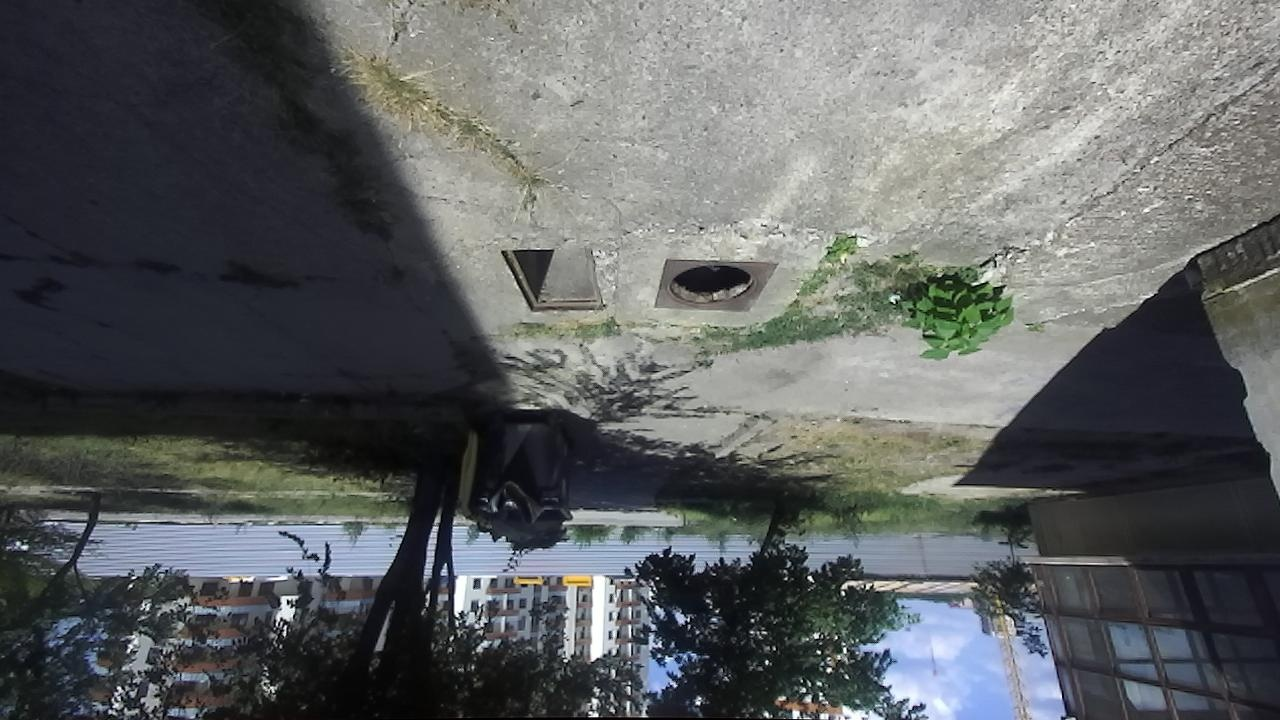drain: (493, 245, 606, 315), (663, 265, 758, 311)
